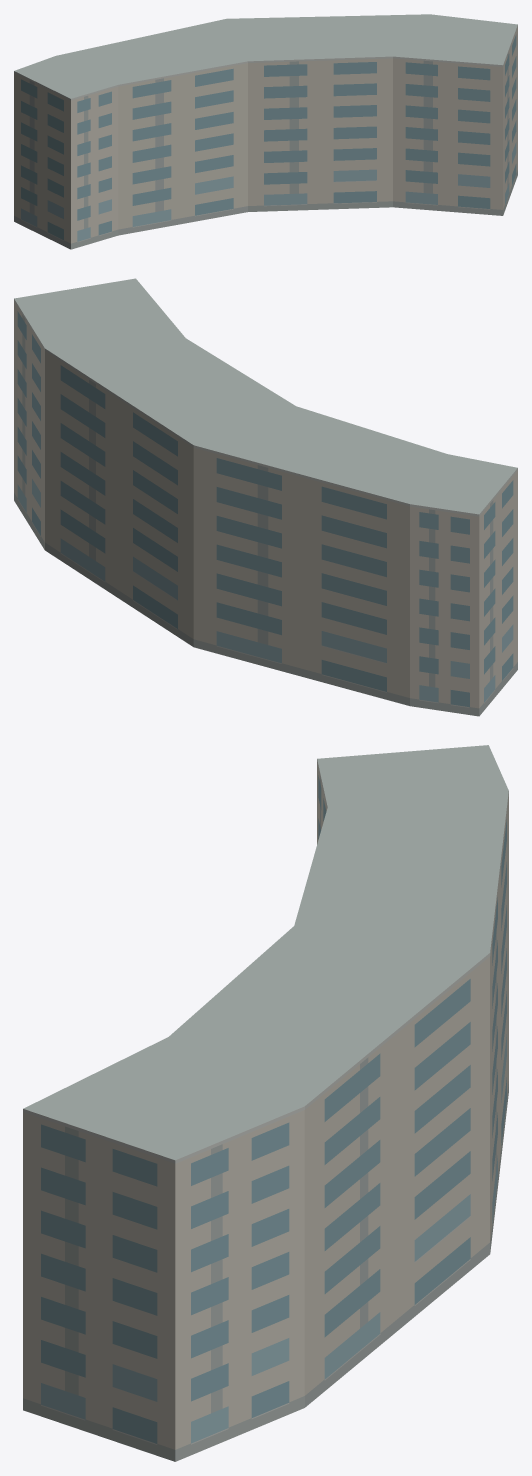
Rendered from residential-d8ef7845-ec68-43b0-9347-31690a2327ce.glb.
3 views of the same model, one above another, from view 1: azimuth 30°, elevation 25°; view 2: azimuth 150°, elevation 25°; view 3: azimuth 270°, elevation 25° (orthographic). The views are drawn at different scales.
Parts seen in each view (by area): view 1: residential-d8ef7845-ec68-43b0-9347-31690a2327ce.tmp; view 2: residential-d8ef7845-ec68-43b0-9347-31690a2327ce.tmp; view 3: residential-d8ef7845-ec68-43b0-9347-31690a2327ce.tmp.
Part boxes in pixels (x1,y1,x2,y2): residential-d8ef7845-ec68-43b0-9347-31690a2327ce.tmp: [14, 14, 517, 249]; residential-d8ef7845-ec68-43b0-9347-31690a2327ce.tmp: [14, 278, 517, 716]; residential-d8ef7845-ec68-43b0-9347-31690a2327ce.tmp: [23, 745, 508, 1461].
Bounding box in the file's own units: 62.04 × 21 × 30.67.
